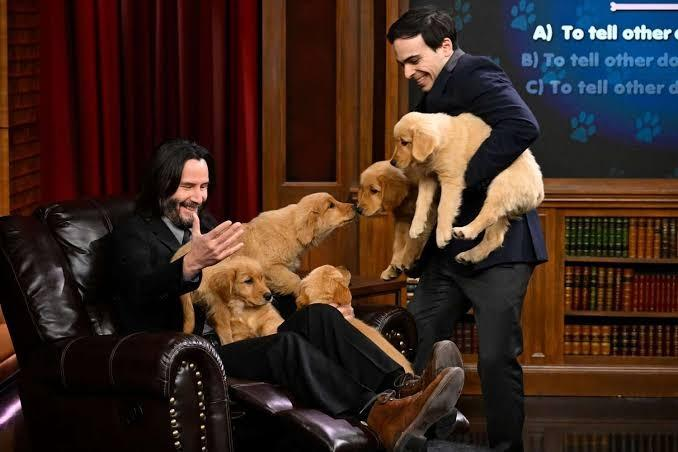non-dog: (99, 138, 465, 452), (386, 9, 548, 452)
puppy-dog: (172, 193, 361, 335), (392, 110, 545, 263), (294, 264, 414, 373), (355, 160, 436, 277), (207, 261, 284, 343)
